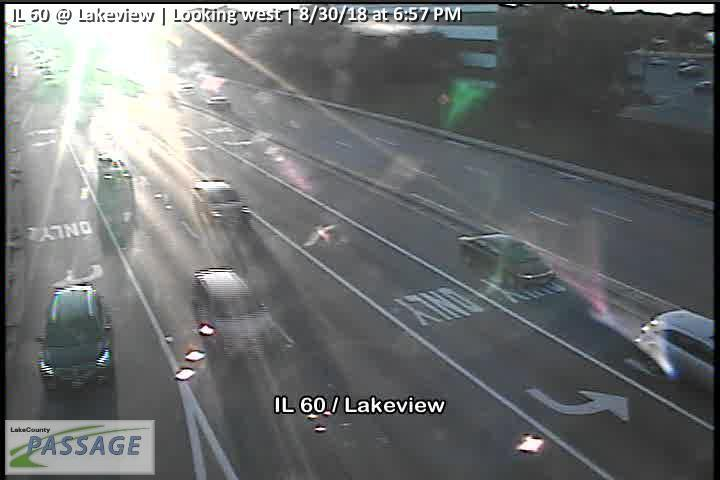SUV: (33, 285, 113, 395), (191, 269, 272, 360), (632, 307, 720, 383)
Sedan: (457, 233, 558, 288), (192, 181, 250, 228)
